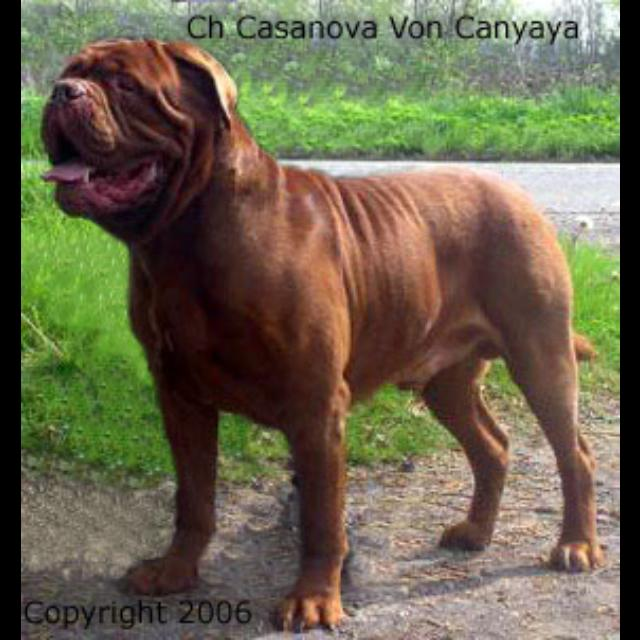dogue_de_bordeaux: (39, 36, 606, 635)
